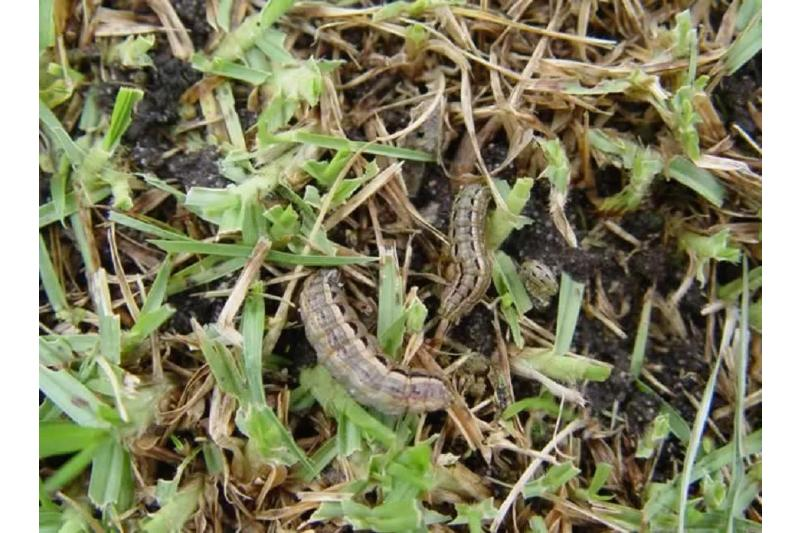fall-armyworm: (299, 269, 448, 419), (439, 184, 492, 324), (518, 261, 559, 299)
